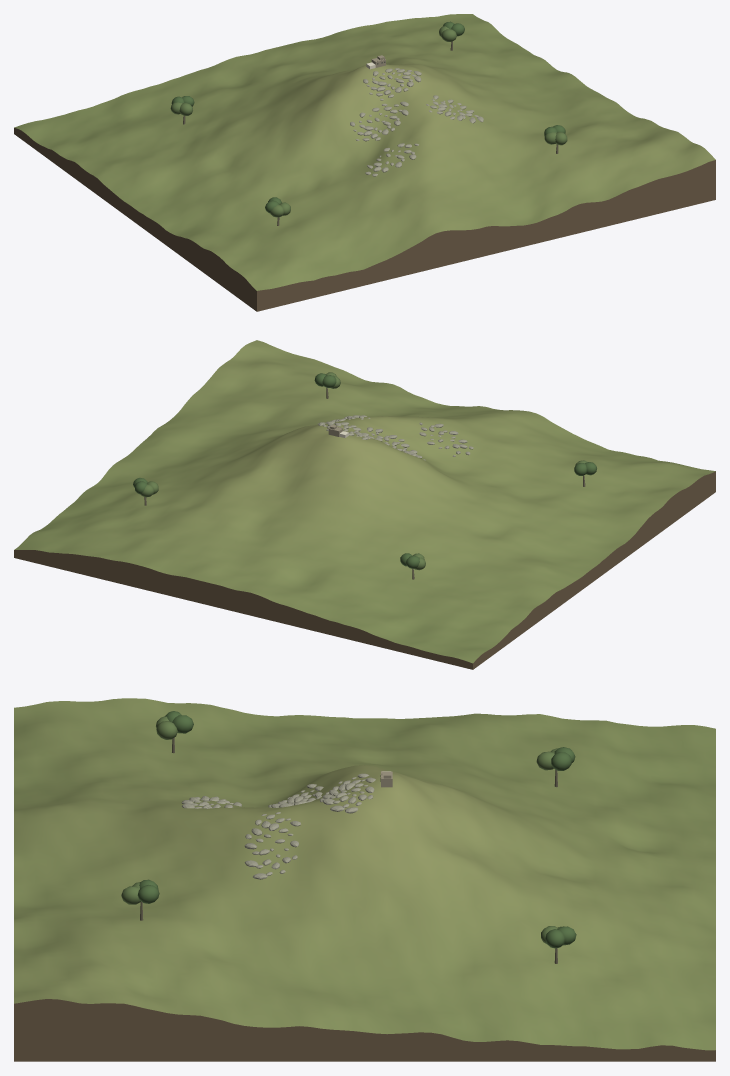
File: gms-02.glb
3 views of the same model, one above another, from view 1: azimuth 30°, elevation 25°; view 2: azimuth 150°, elevation 25°; view 3: azimuth 270°, elevation 25° (orthographic). The views are drawn at different scales.
Visible parts, largest first — view 1: GMS-02 - estudio del paisaje; view 2: GMS-02 - estudio del paisaje; view 3: GMS-02 - estudio del paisaje.
Part boxes in pixels (x1,y1,x2,y2): GMS-02 - estudio del paisaje: [14, 14, 715, 311]; GMS-02 - estudio del paisaje: [14, 340, 715, 669]; GMS-02 - estudio del paisaje: [14, 698, 715, 1061].
Bounding box in the file's own units: 12 × 2.47 × 11.
